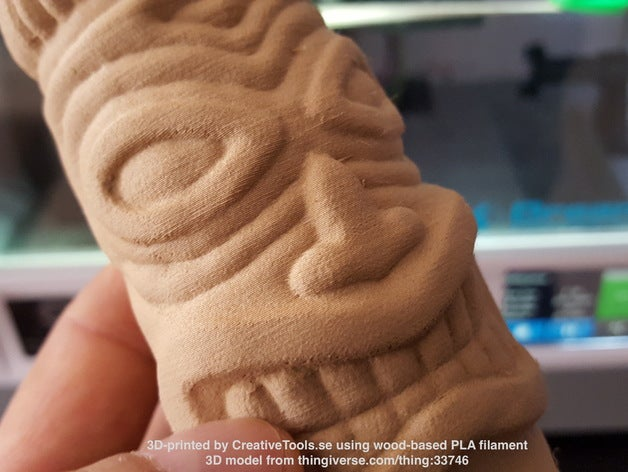Good: (10, 5, 577, 449)
